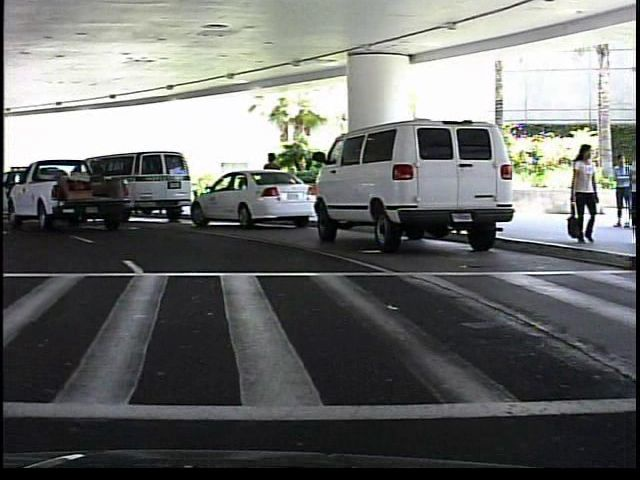person: (564, 142, 598, 246), (609, 154, 632, 233), (262, 148, 288, 215), (626, 144, 640, 246)
